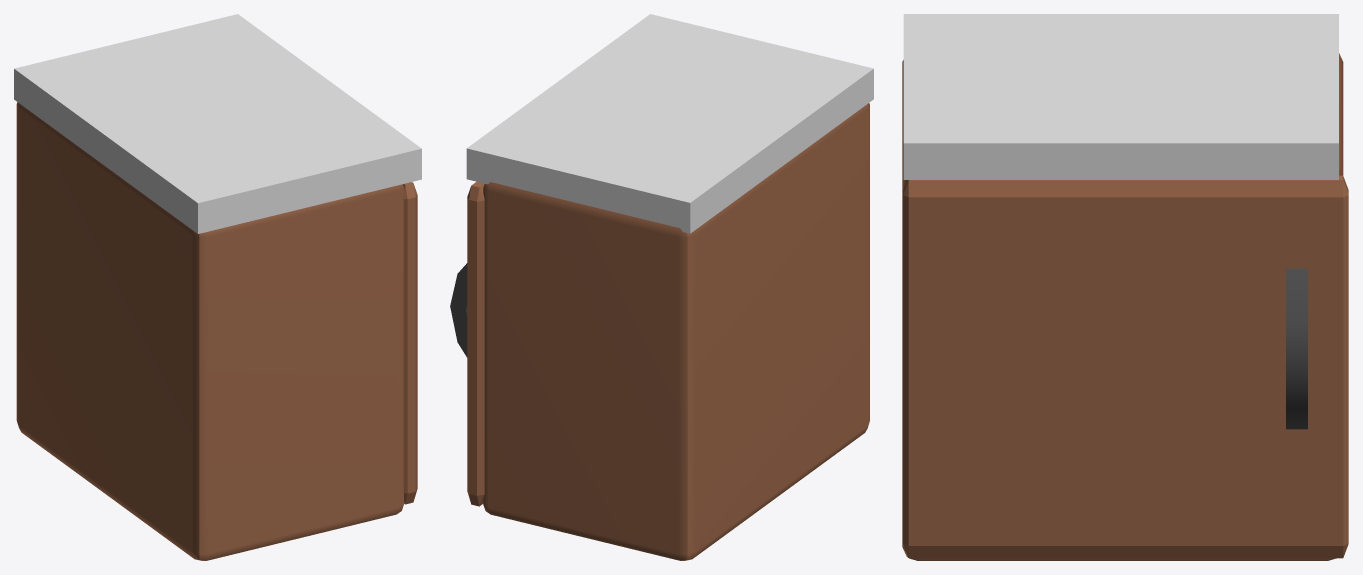
File: Kitchen cabinet.fbx
The picture shows the model from 3 angles, left to right: view 1: azimuth 30°, elevation 25°; view 2: azimuth 150°, elevation 25°; view 3: azimuth 270°, elevation 25°; orthographic projection. The views are drawn at different scales.
Parts seen in each view (by area): view 1: pCube9, pCube11, pCube19; view 2: pCube9, pCube11, pCube19, pCube10; view 3: pCube19, pCube11, pCube10, pCube9.
Part boxes in pixels (box(x1,y1,x2,y2)): pCube9: box(16, 102, 403, 560); pCube11: box(14, 14, 421, 233); pCube19: box(403, 182, 417, 504); pCube9: box(483, 103, 869, 560); pCube11: box(466, 14, 873, 233); pCube19: box(467, 181, 484, 506); pCube10: box(450, 263, 467, 357); pCube19: box(903, 175, 1348, 558); pCube11: box(903, 14, 1338, 179); pCube10: box(1286, 268, 1307, 429); pCube9: box(902, 53, 1343, 560).
Size of the model in its own units: 1.53 by 2.1 by 1.97.
